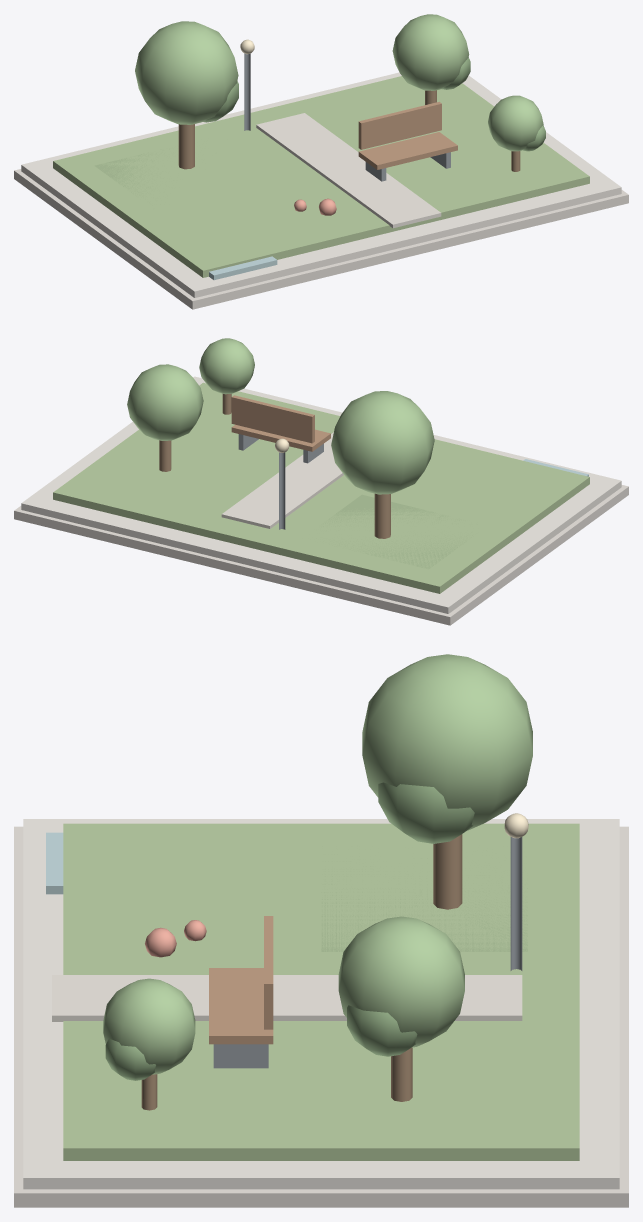
The model's file is jardim.glb.
3 renders of one model, top to bottom at view 1: azimuth 30°, elevation 25°; view 2: azimuth 150°, elevation 25°; view 3: azimuth 270°, elevation 25°, orthographic. The views are drawn at different scales.
Bounding box in the file's own units: 3.78 × 1.34 × 2.68.
